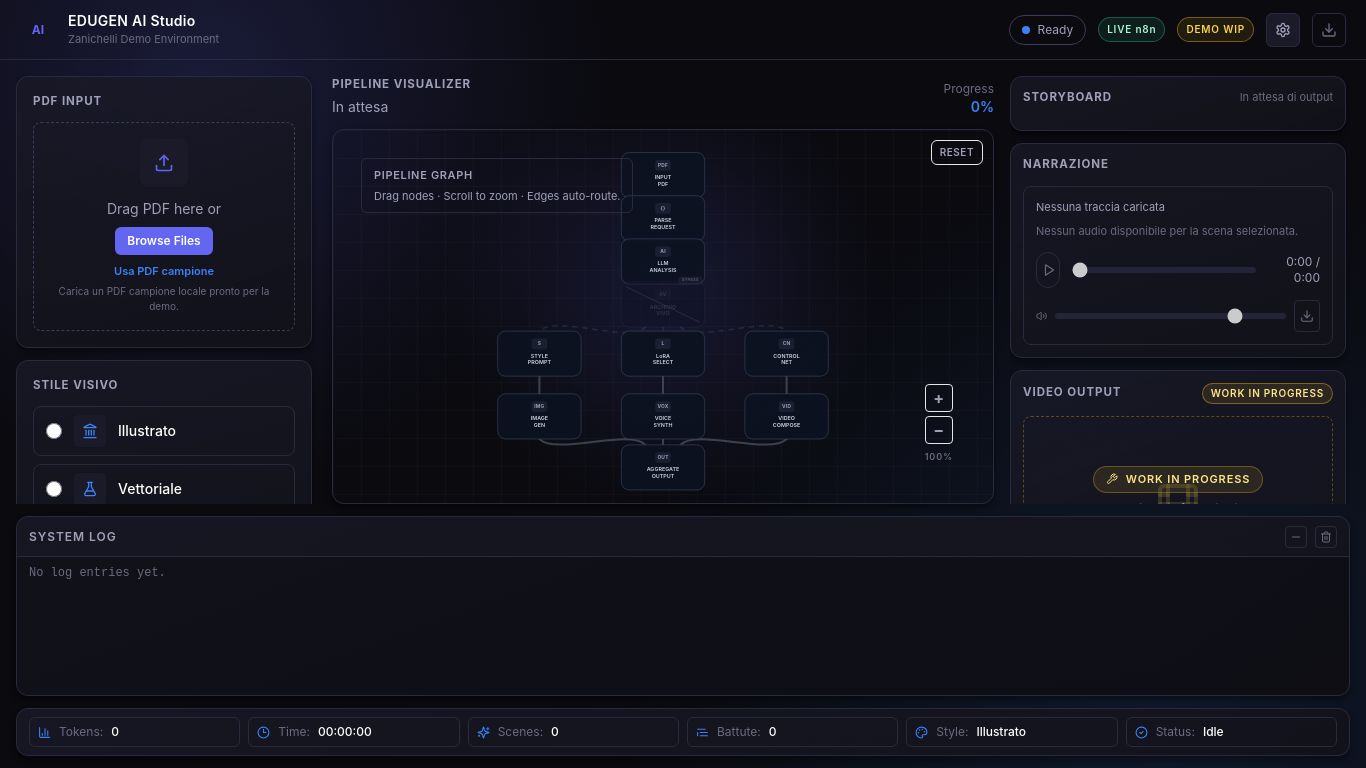
Test case: App success flow › uses updated settings for the next request and renders storyboard output
Click the button "Usa PDF campione" at (164, 272), box [114,263,214,280]
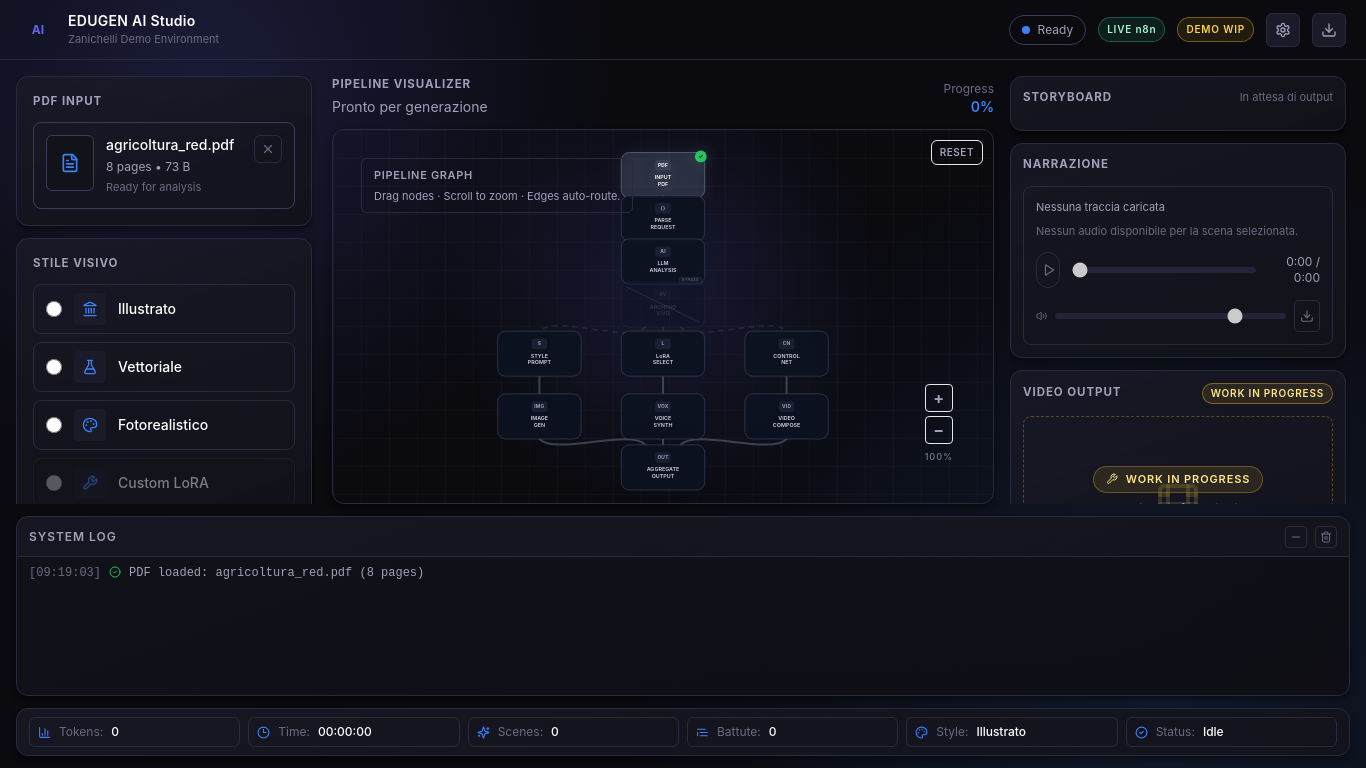
Now the text "Ready for analysis" is shown, box [106,180,201,194]
Click the button named "settings" at (1283, 30), box [1266,12,1300,46]
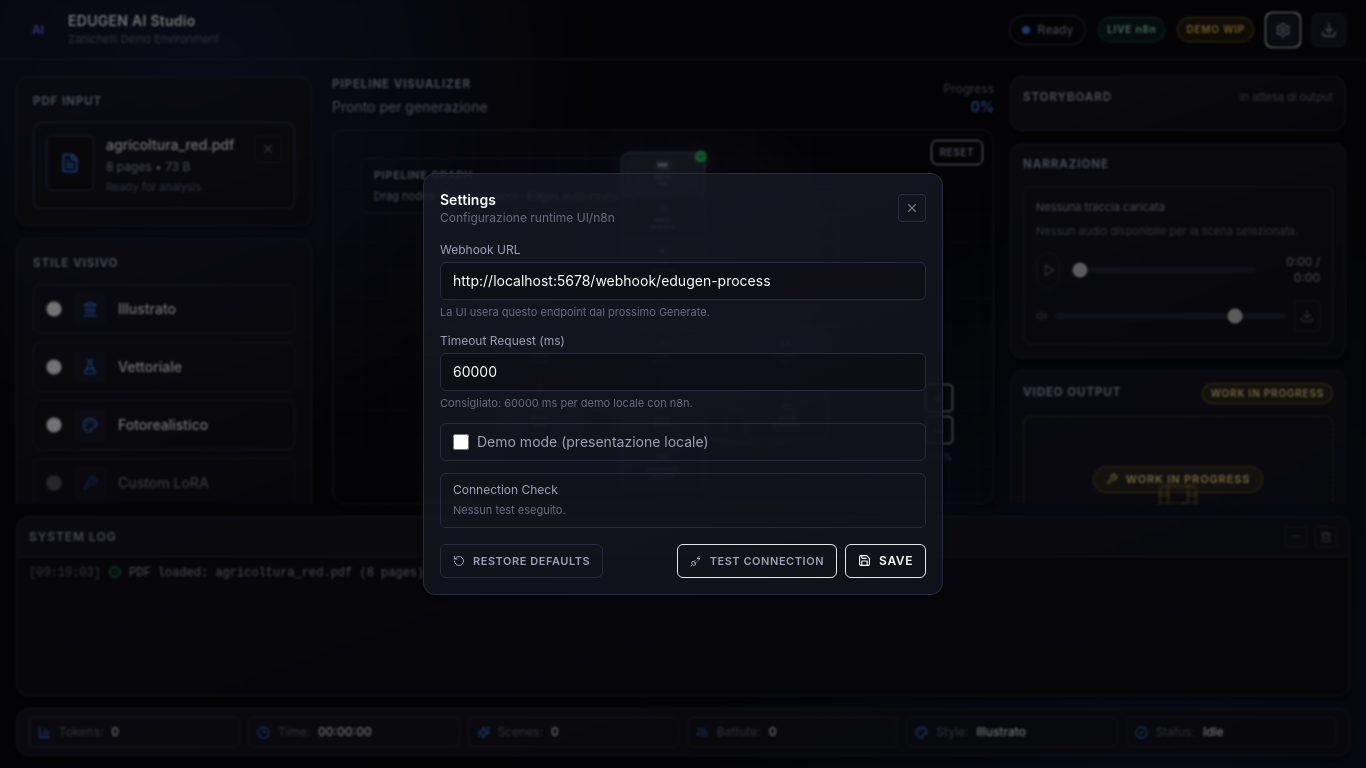
Replace the text in the field showing "http://localhost:5678/webhook/edugen-process" with "http://localhost:5678/webhook/custom" at (683, 281), box [440,262,926,300]
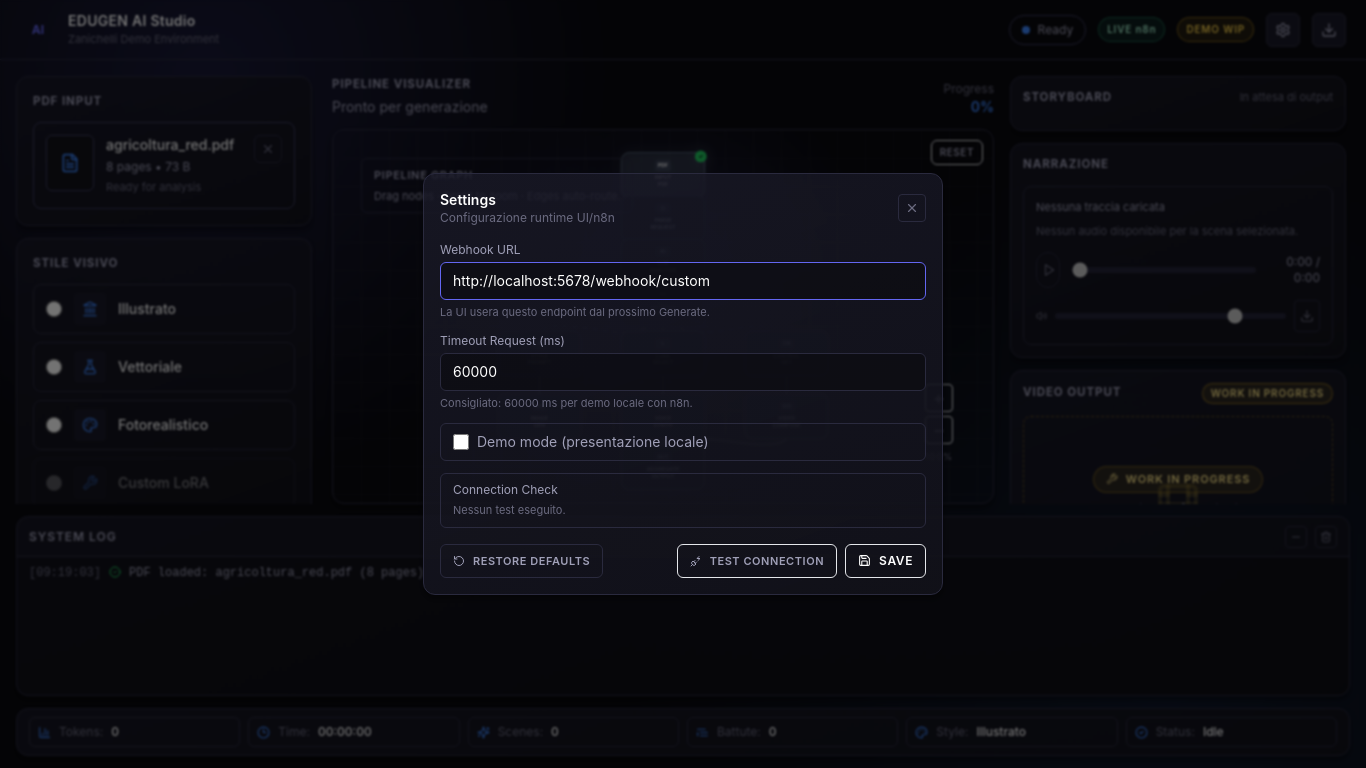
Click the button "SAVE" at (886, 561), box [845,544,926,578]
(page scrolled)
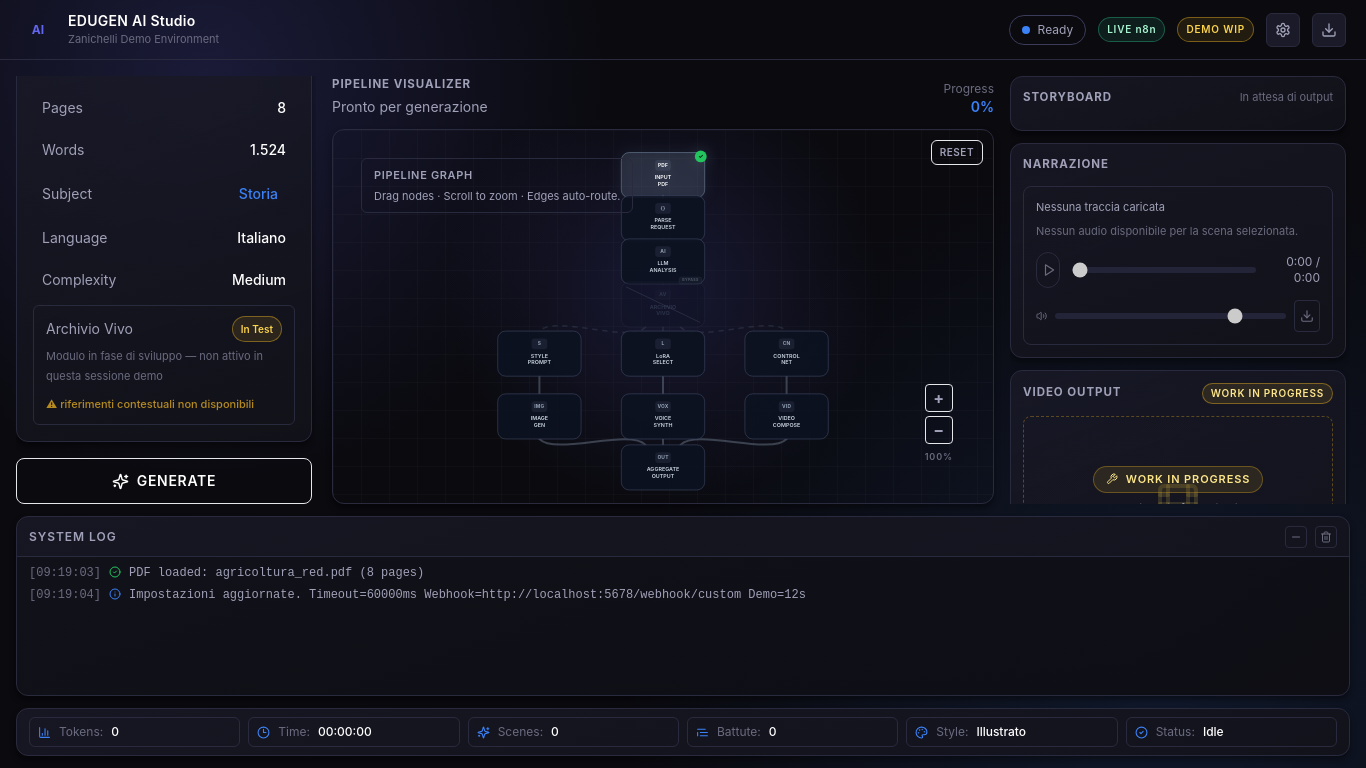
Click the button "GENERATE" at (164, 481), box [16,458,312,504]
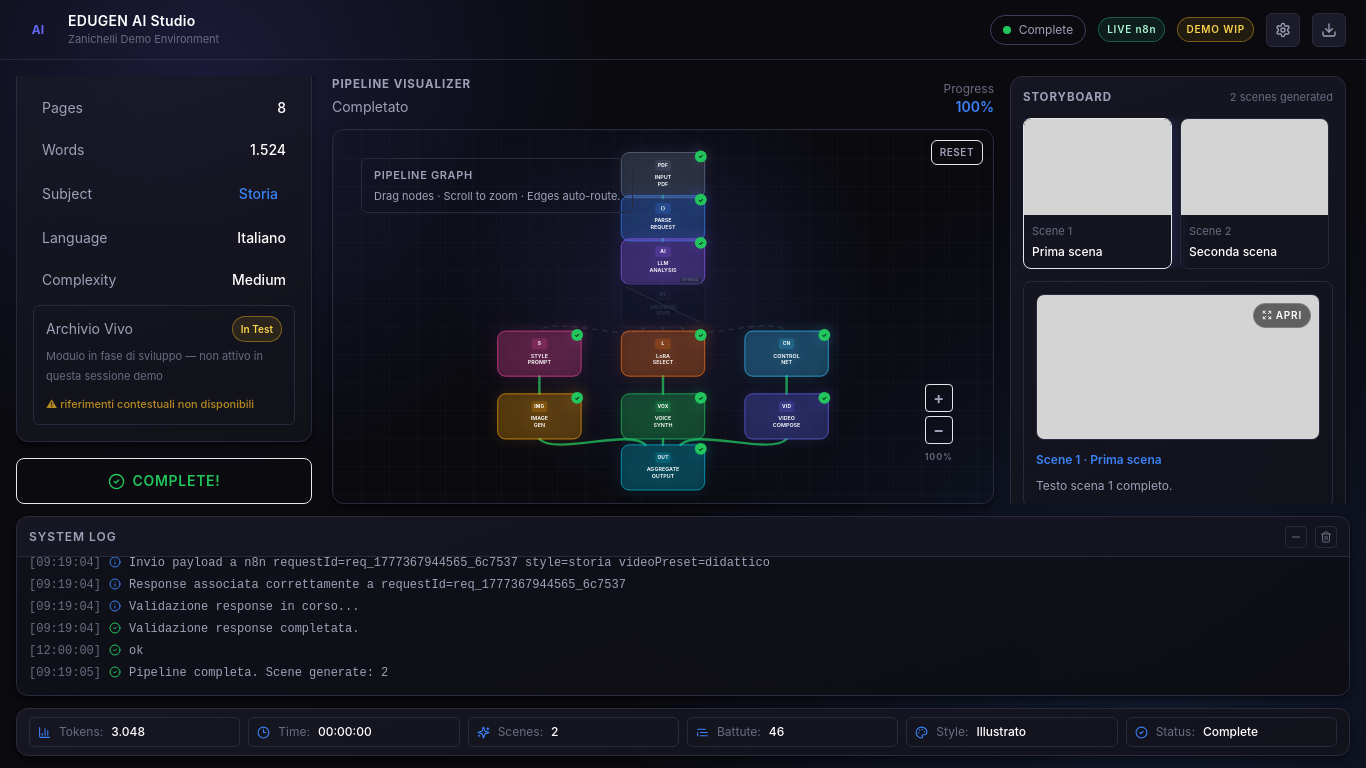
Now the text "2 scenes generated" is shown, box [1230,89,1333,106]
Click the button "Scene 2 Seconda scena" at (1254, 194), box [1180,118,1329,269]
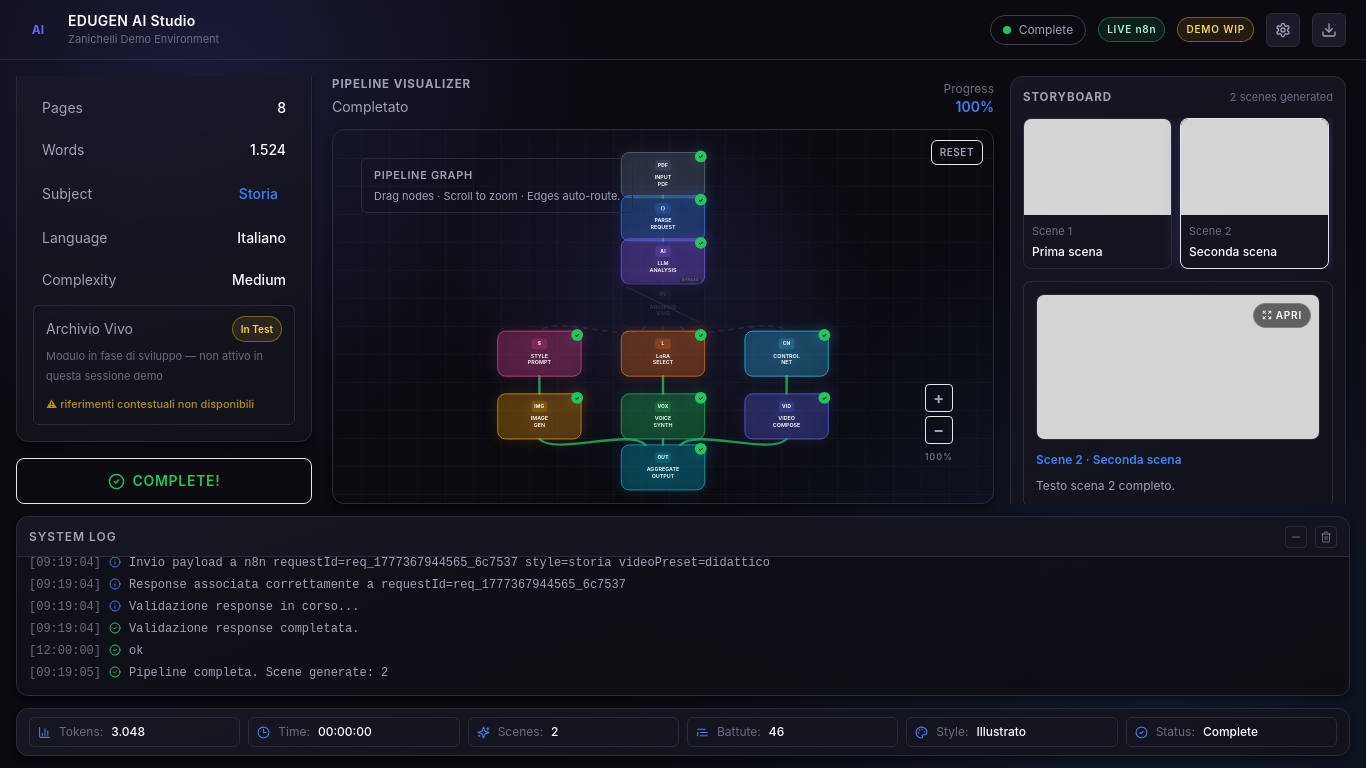
Now the text "Testo scena 2 completo." is shown, box [1036,478,1175,493]
